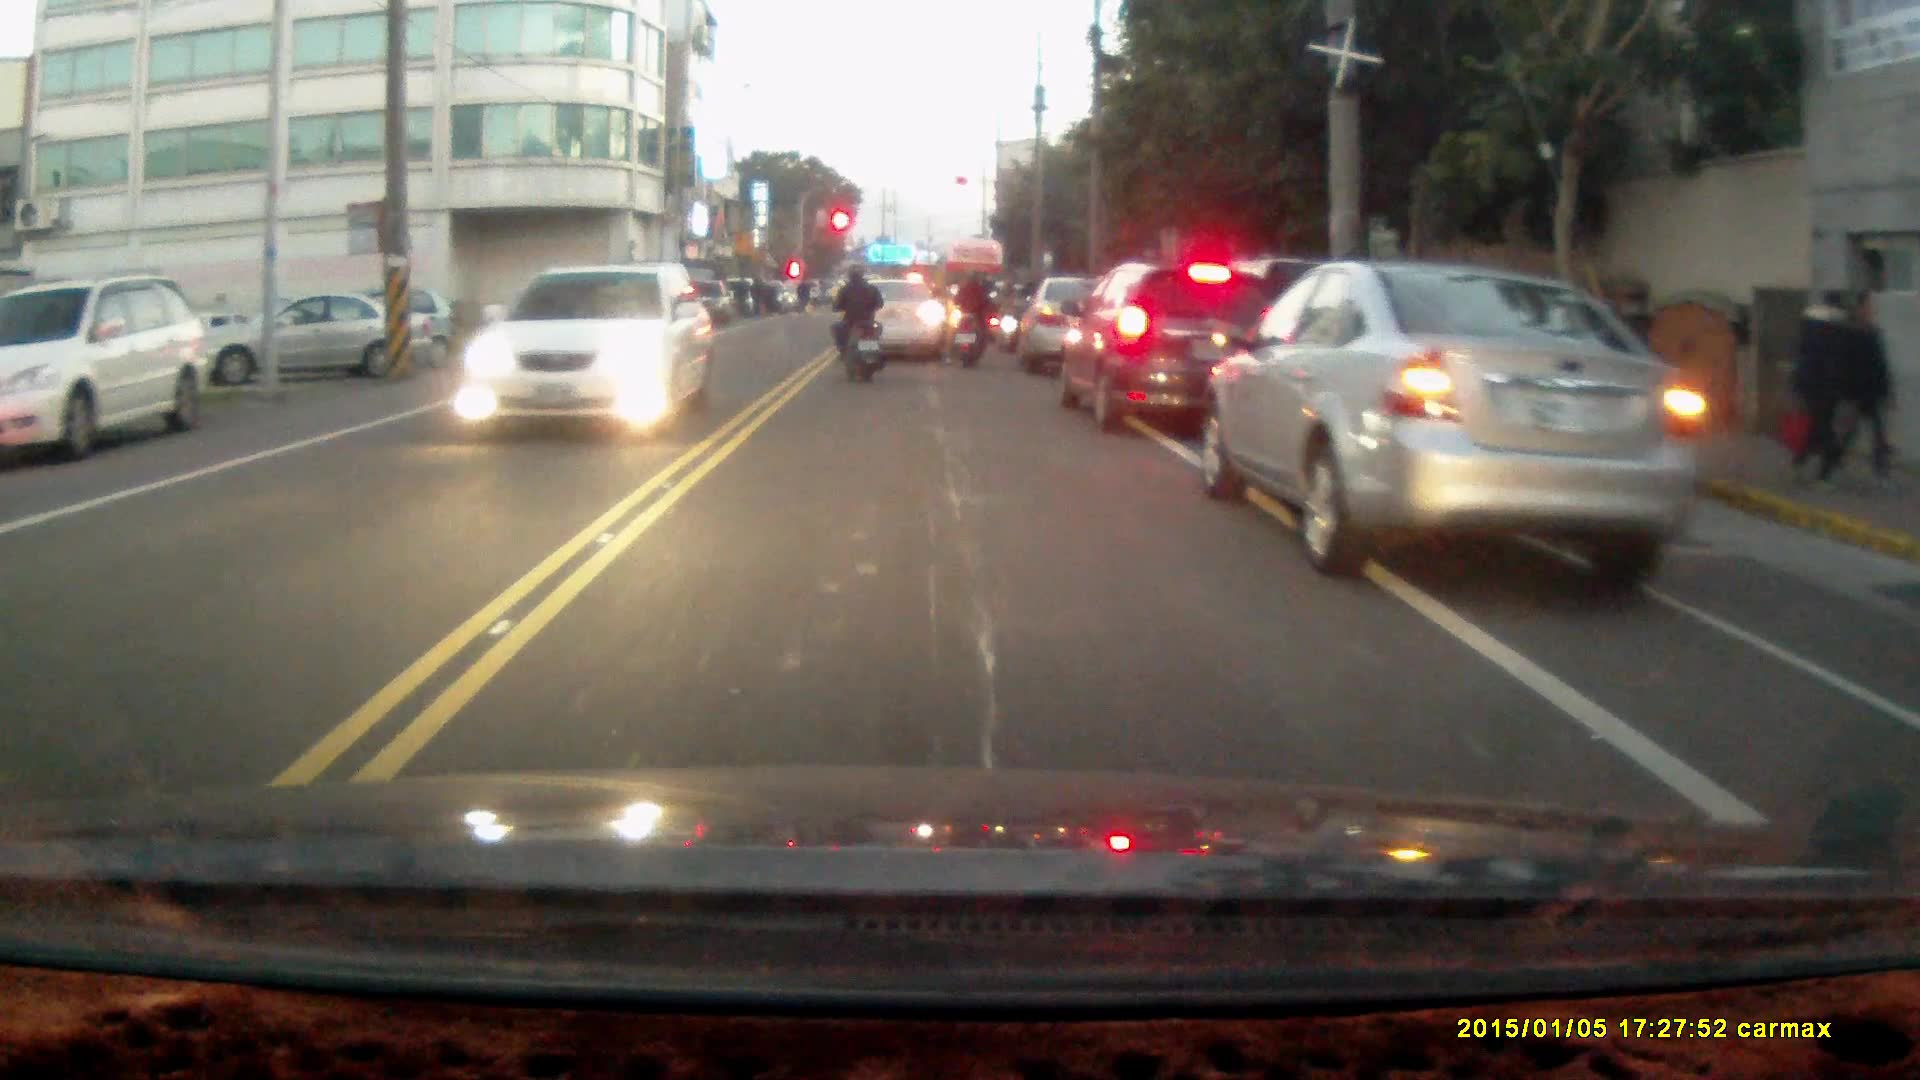pedestrian: (1790, 285, 1851, 497), (1837, 294, 1893, 487)
rider: (829, 266, 885, 387), (948, 269, 999, 370)
vehicle: (1198, 262, 1709, 592), (459, 266, 710, 440), (1, 272, 214, 463), (1059, 270, 1288, 444), (208, 295, 432, 383), (1017, 275, 1142, 385), (840, 287, 953, 373)
